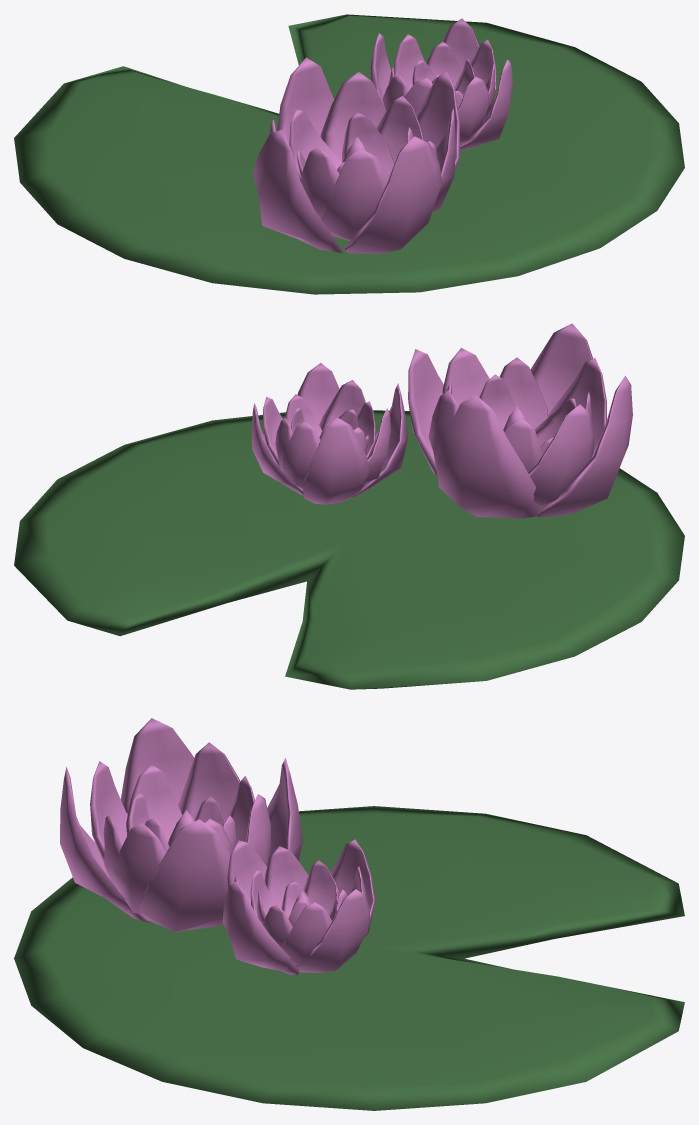
The model's file is LilyPad_Flower.fbx.
The picture shows the model from 3 angles, top to bottom: view 1: azimuth 30°, elevation 25°; view 2: azimuth 150°, elevation 25°; view 3: azimuth 270°, elevation 25°; orthographic projection. The views are drawn at different scales.
Parts seen in each view (by area): view 1: pSphere19; view 2: pSphere19; view 3: pSphere19.
Part boxes in pixels (x1=…): pSphere19: x1=14, y1=14, x2=684, y2=294; pSphere19: x1=14, y1=323, x2=684, y2=689; pSphere19: x1=14, y1=718, x2=684, y2=1110.
Bounding box in the file's own units: 9.57 × 2.47 × 8.9.
